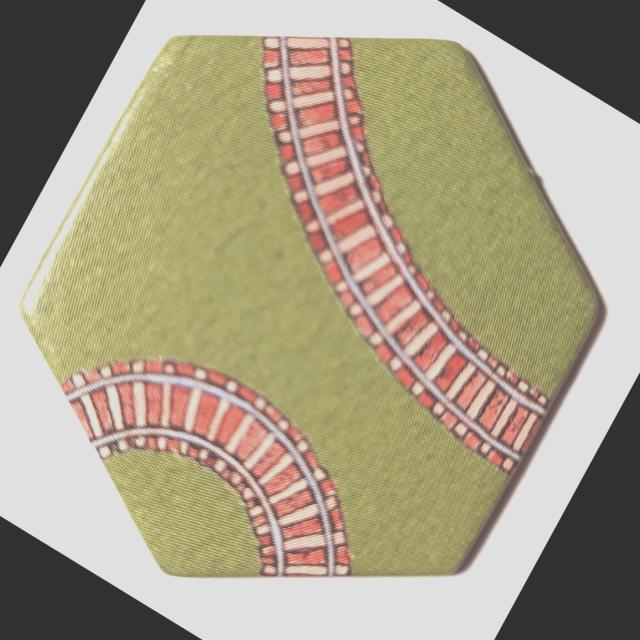15_1: (19, 33, 602, 580)
